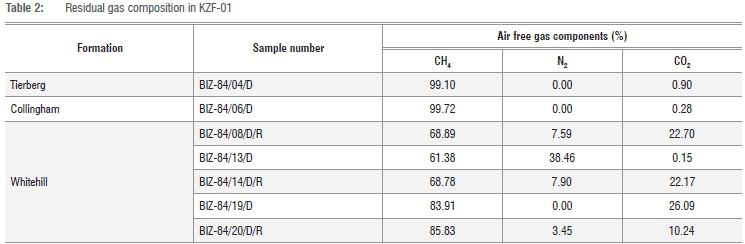fracking table: (2, 22, 745, 243)
